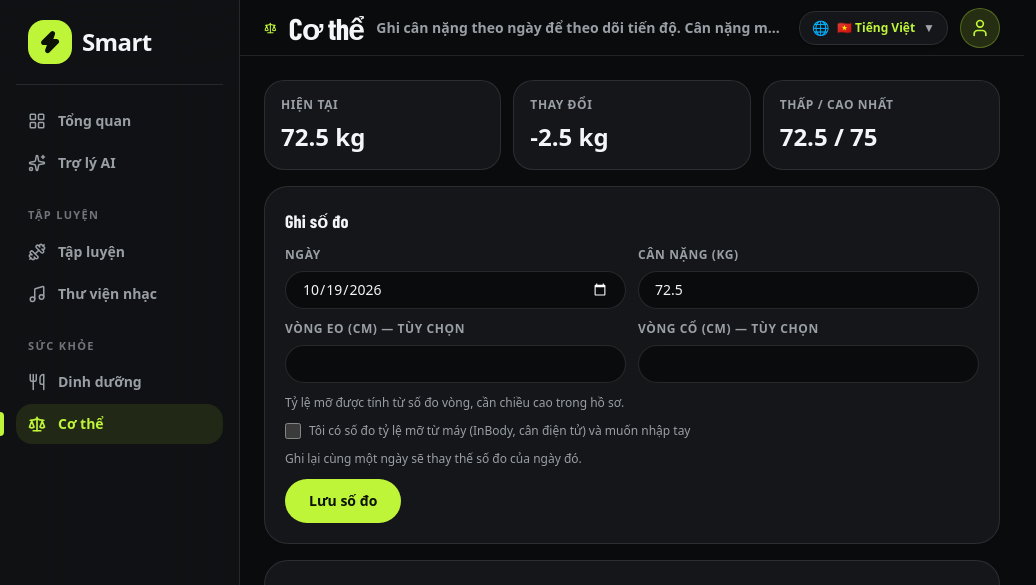
Test: Body page: saving › body fat = {} is refused with a message and nothing is sent
Expected: the heading "Cơ thể" is shown, [289, 10, 364, 46]
Click the checkbox labelled "số đo tỷ lệ mỡ từ máy".
click(293, 431)  # box [285, 423, 301, 439]
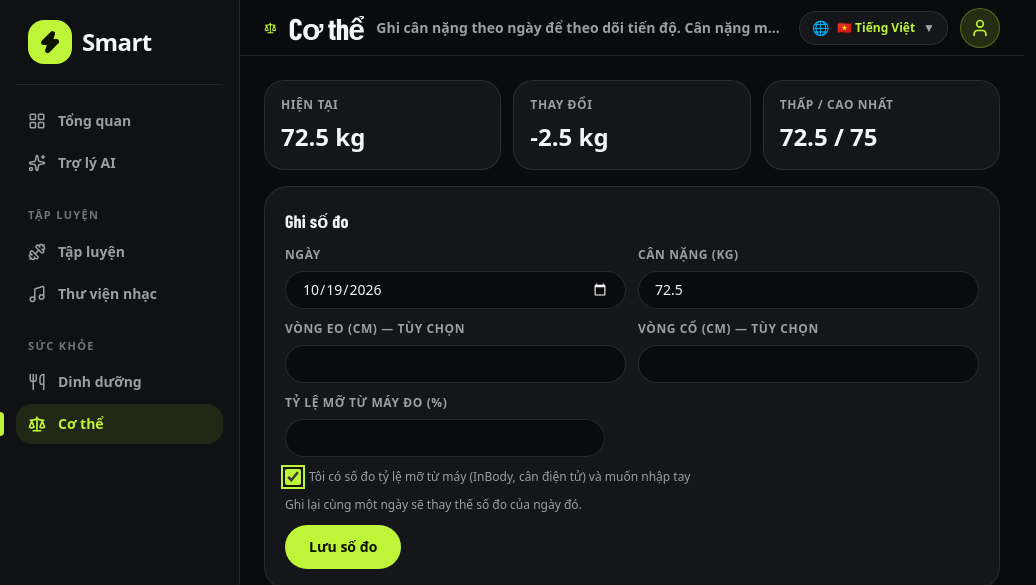
Type "1" into the number field labelled "Tỷ lệ mỡ từ máy đo (%)".
click(445, 438); type("1")  # box [285, 419, 605, 457]
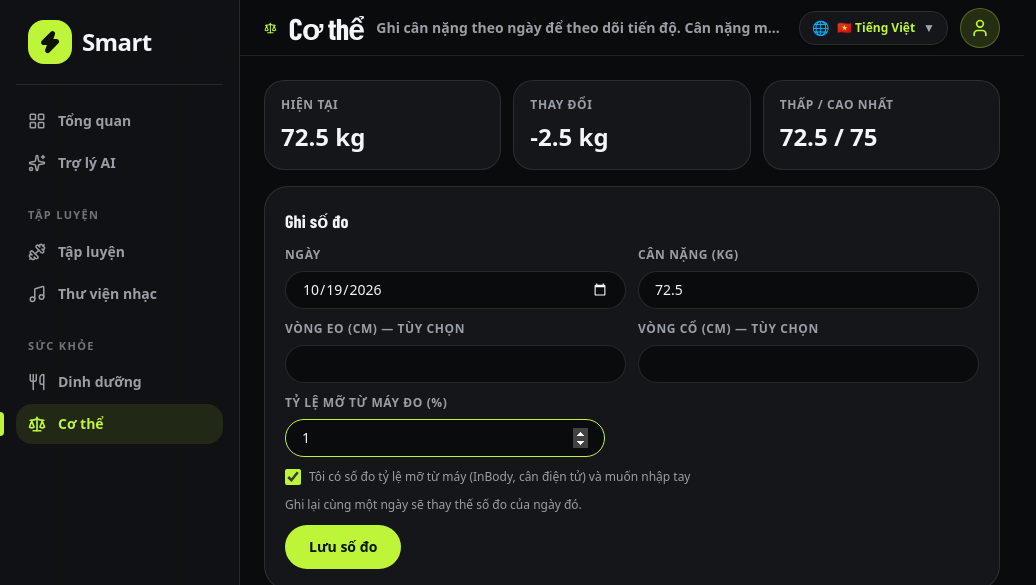
Click the button "Lưu số đo".
click(343, 547)  # box [285, 525, 401, 569]
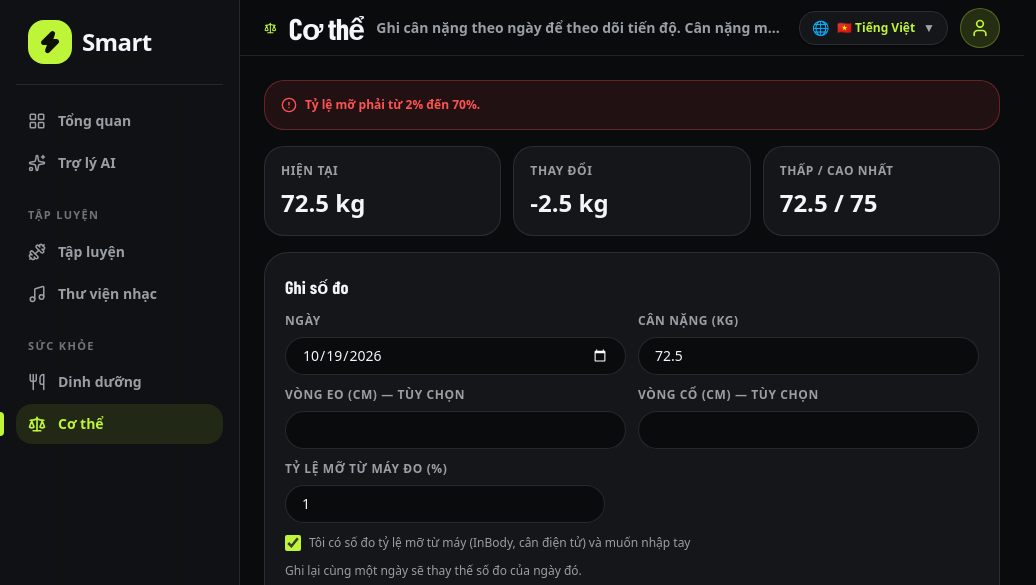
Result: the message shows "mỡ" at [305, 96, 480, 113]
